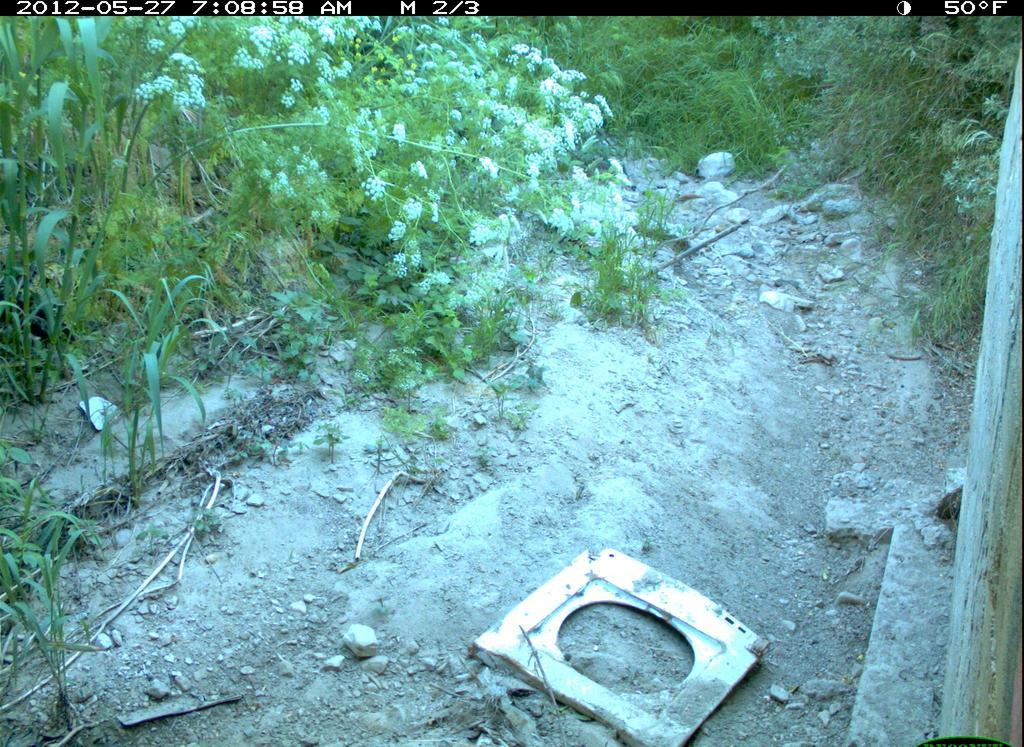cat: (1, 265, 81, 377)
